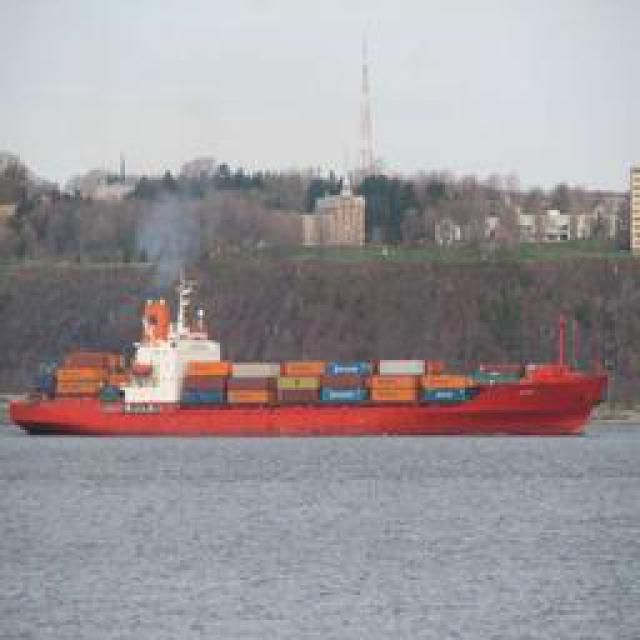Ship: (19, 355, 604, 435)
